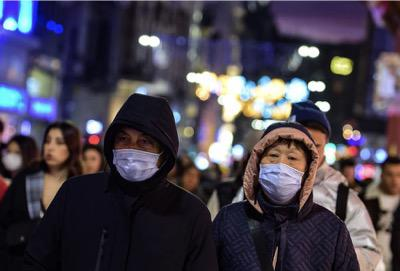with_mask: (257, 146, 309, 204), (110, 126, 161, 182), (1, 146, 22, 171)
without_mask: (40, 133, 67, 170), (380, 170, 399, 196)
